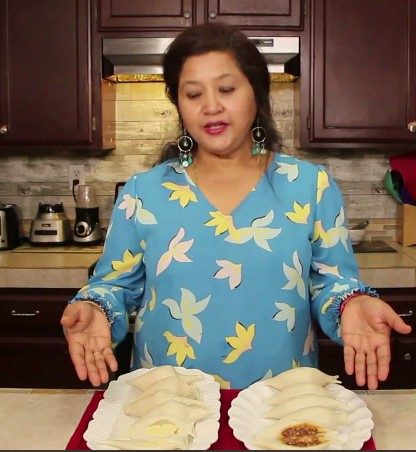yomari: (116, 418, 193, 450), (254, 427, 339, 449), (146, 402, 212, 417), (276, 370, 341, 385), (143, 367, 206, 382), (291, 409, 347, 424), (288, 399, 348, 409), (146, 382, 201, 392), (282, 387, 339, 396), (137, 393, 199, 399)
